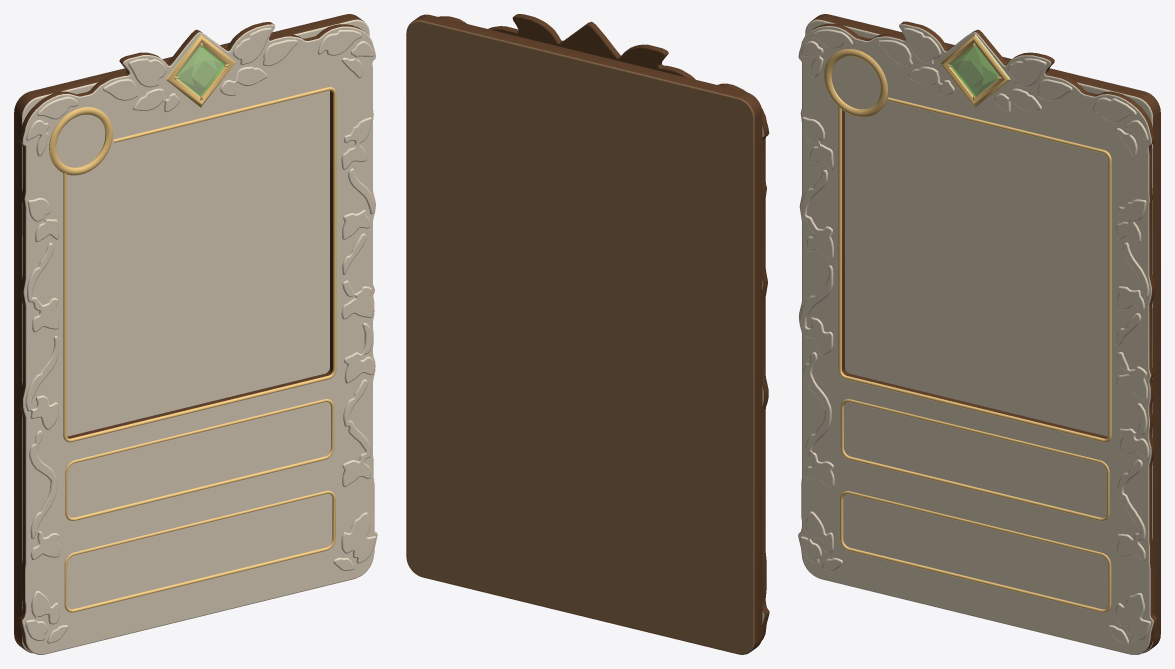
File: card-uncommon.glb
The picture shows the model from 3 angles, left to right: view 1: azimuth 30°, elevation 25°; view 2: azimuth 150°, elevation 25°; view 3: azimuth 330°, elevation 25°; orthographic projection.
Parts seen in each view (by area): view 1: slab, frame, leaves, name-plate, stat-plate, rim-window, rim-stat, rim-name, medal-disc, rim-medal, setting, gem; view 2: slab, frame; view 3: slab, frame, leaves, name-plate, stat-plate, rim-window, rim-stat, rim-name, medal-disc, rim-medal, setting, gem.
Part boxes in pixels (box(x1,y1,x2,y2)): slab: box(14, 14, 369, 653); frame: box(18, 22, 377, 654); leaves: box(25, 27, 376, 643); name-plate: box(68, 402, 330, 517); stat-plate: box(67, 493, 332, 609); rim-window: box(63, 87, 336, 442); rim-stat: box(64, 490, 335, 612); rim-name: box(65, 399, 334, 521); medal-disc: box(56, 114, 105, 167); rim-medal: box(49, 107, 112, 175); setting: box(165, 34, 235, 107); gem: box(176, 45, 225, 96); slab: box(406, 14, 762, 654); frame: box(438, 14, 769, 640); slab: box(805, 14, 1160, 653); frame: box(798, 21, 1157, 654); leaves: box(800, 27, 1150, 644); name-plate: box(844, 402, 1106, 517); stat-plate: box(843, 494, 1108, 609); rim-window: box(838, 97, 1111, 442); rim-stat: box(840, 491, 1111, 612); rim-name: box(840, 399, 1109, 521); medal-disc: box(831, 56, 880, 109); rim-medal: box(824, 49, 887, 117); setting: box(940, 34, 1010, 107); gem: box(950, 45, 999, 96).
Size of the model in its own units: 0.9329 by 1.46 by 0.0771.
